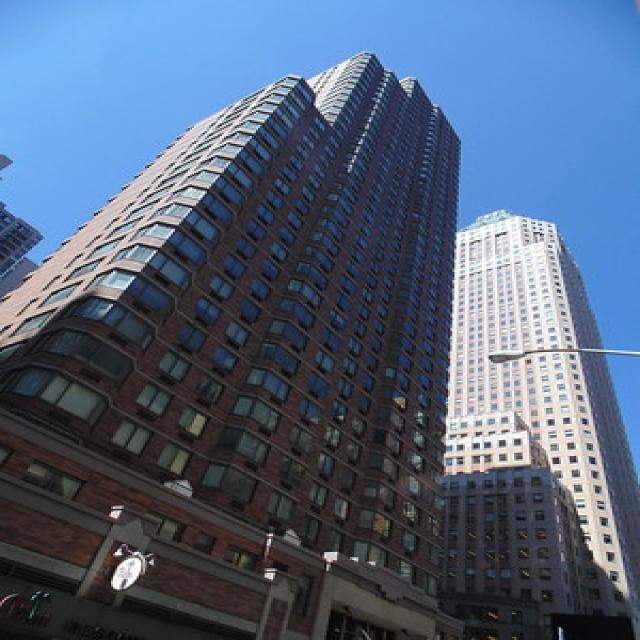Normal_building: (6, 46, 465, 637)
